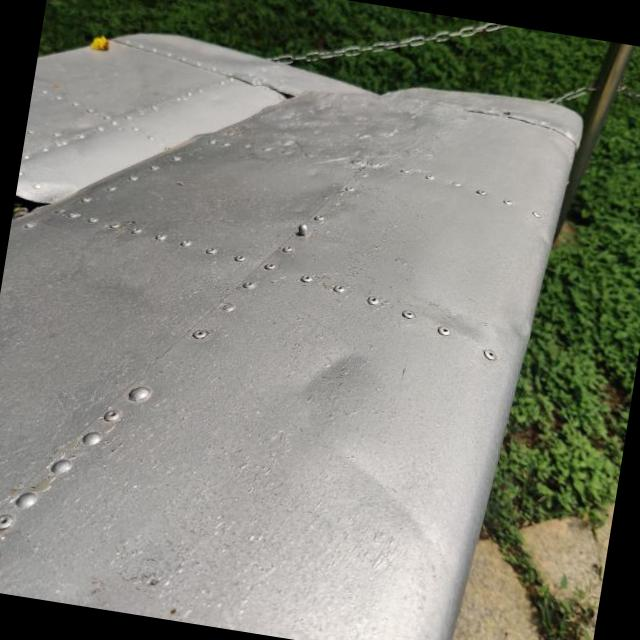Dent: (311, 427, 496, 610), (282, 328, 384, 452)
